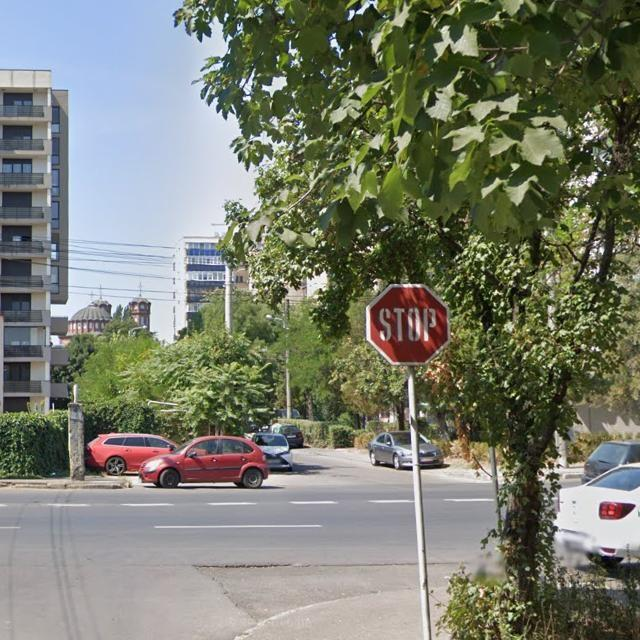prio_stop: (367, 283, 452, 368)
